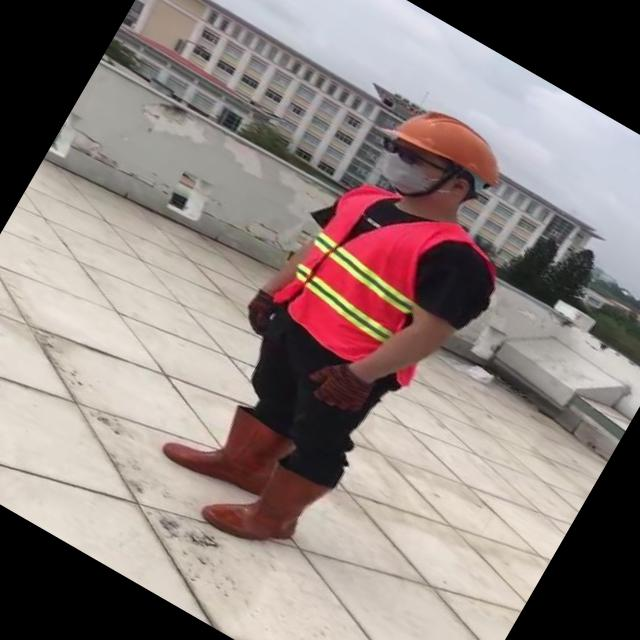hard_hat: (378, 86, 520, 198)
safety_vest: (268, 167, 490, 392)
vehicle: (118, 61, 570, 606)
work_boots: (160, 382, 298, 510), (198, 441, 330, 568)
